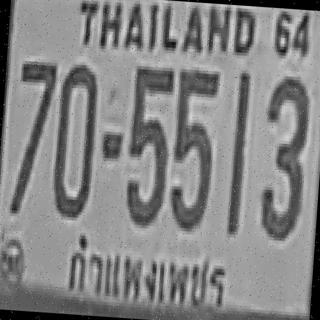N00: (51, 62, 98, 217)
N01: (226, 71, 250, 227), (227, 70, 250, 214)
N03: (256, 70, 310, 237)
N05: (167, 66, 218, 230), (123, 64, 174, 225)
N07: (10, 57, 57, 212), (14, 58, 58, 160)
P16: (56, 228, 237, 316)
